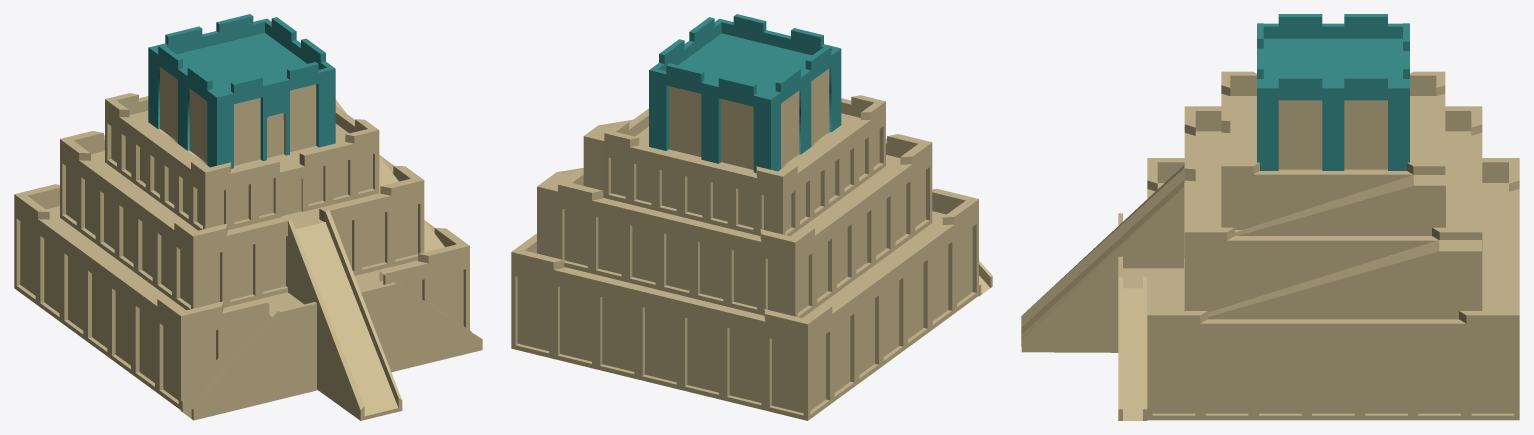
The model's file is etemenanki.fbx.
The picture shows the model from 3 angles, left to right: view 1: azimuth 30°, elevation 25°; view 2: azimuth 150°, elevation 25°; view 3: azimuth 270°, elevation 25°; orthographic projection. The views are drawn at different scales.
Visible parts, largest first — view 1: etemanaki; view 2: etemanaki; view 3: etemanaki.
Boxes of the visible parts, x1,y1,x2,y2 form: etemanaki: [14, 14, 482, 420]; etemanaki: [511, 14, 992, 420]; etemanaki: [1021, 14, 1519, 420].
Size of the model in its own units: 20.02 by 17.55 by 26.76.
